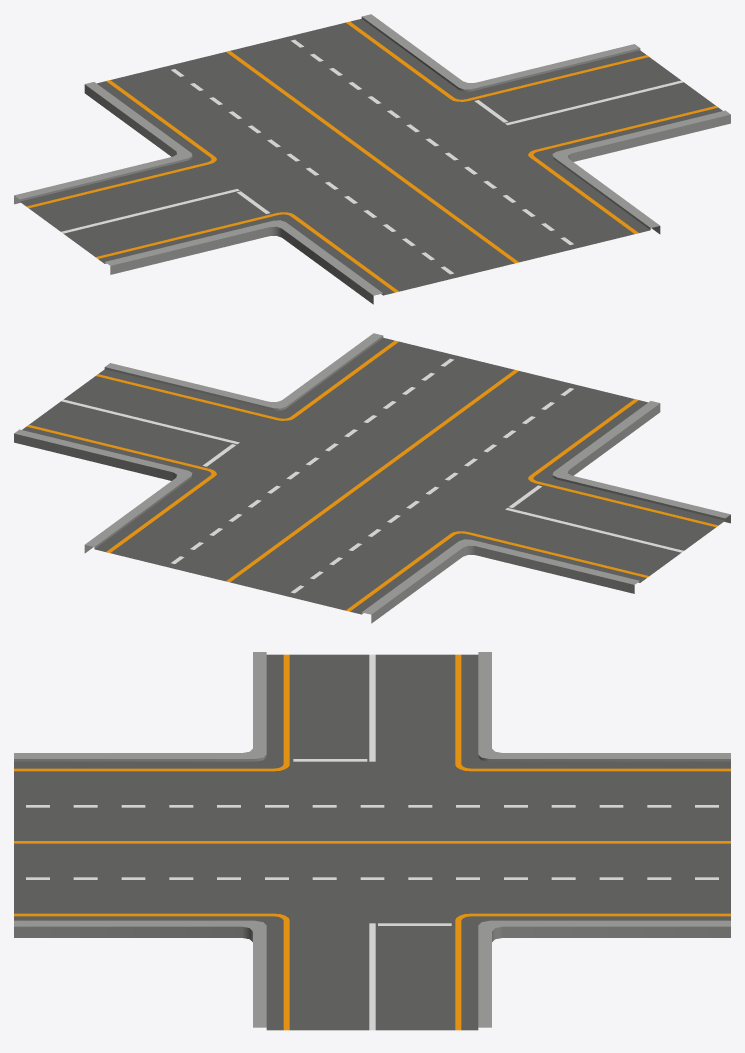
File: Road_B_2L_2_5.fbx
3 views of the same model, one above another, from view 1: azimuth 30°, elevation 25°; view 2: azimuth 150°, elevation 25°; view 3: azimuth 270°, elevation 25° (orthographic). The views are drawn at different scales.
Visible parts, largest first — view 1: Road_B_2L_2_5; view 2: Road_B_2L_2_5; view 3: Road_B_2L_2_5.
Boxes of the visible parts, box(x1,y1,x2,y2) form: Road_B_2L_2_5: box(14, 14, 730, 304); Road_B_2L_2_5: box(14, 333, 730, 623); Road_B_2L_2_5: box(14, 652, 730, 1030).
Bounding box in the file's own units: 2975 × 41.48 × 2400.
